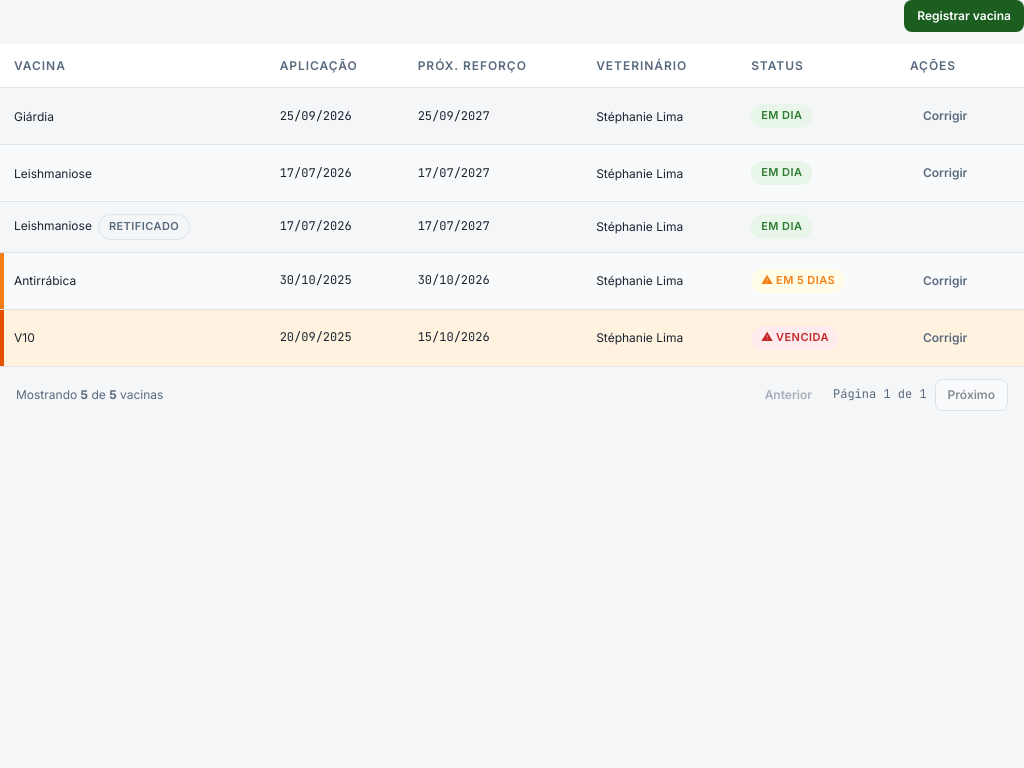
Test: ModalRegistrarVacina — catálogo de vacinas da API › falha ao carregar mostra o erro com "Tentar novamente" e bloqueia o envio até recuperar
Expected: the text "V10" is shown, [0, 310, 266, 366]
Click the button "Registrar vacina" at (964, 16), box [904, 0, 1023, 32]
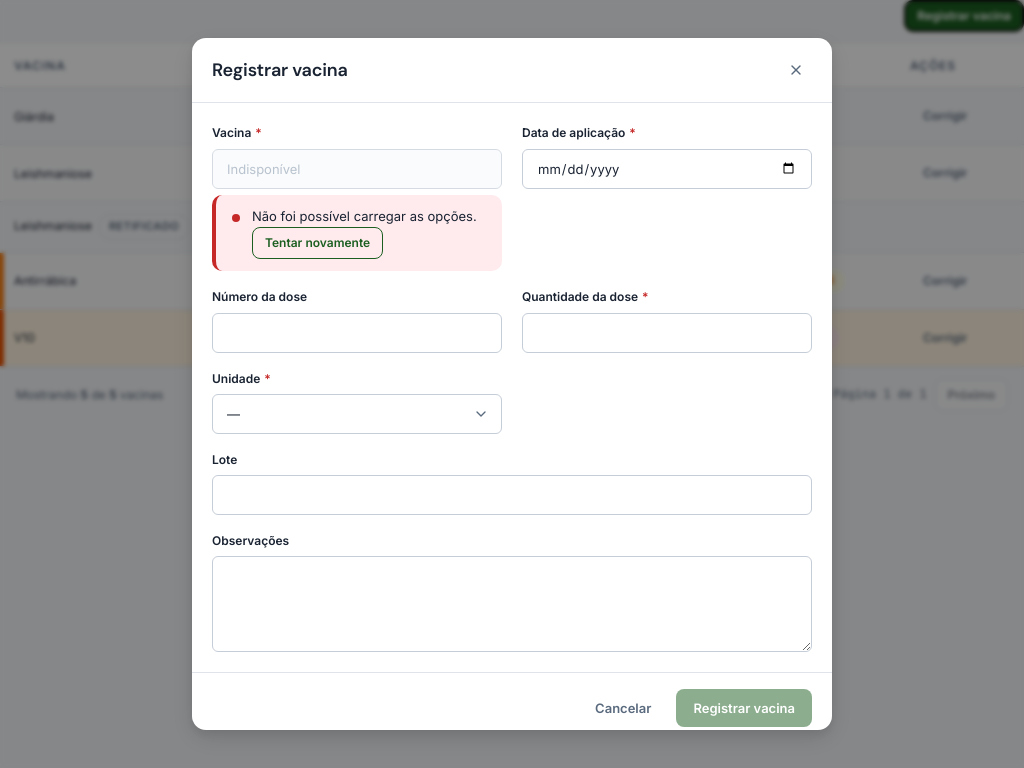
Expected: the text "Não foi possível carregar as opções." is shown, [252, 208, 477, 224]
Expected: the button "Registrar vacina" is disabled, [676, 689, 812, 727]
Click the button "Tentar novamente" at (318, 243), box [252, 227, 383, 259]
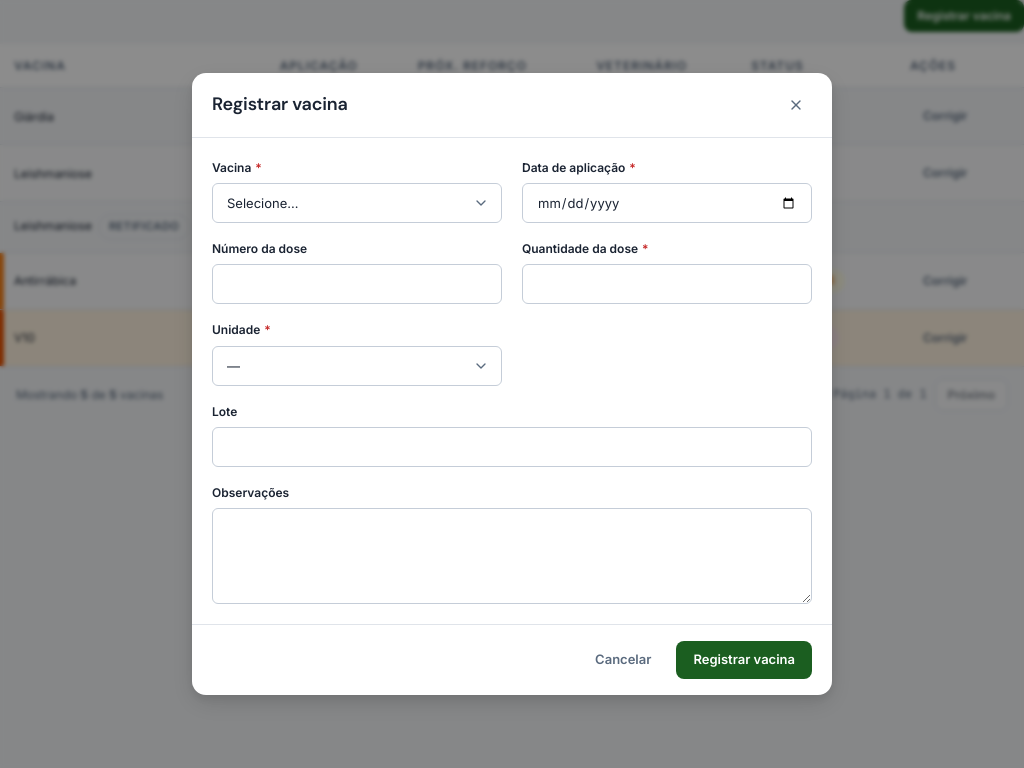
Expected: the text "Não foi possível carregar as opções." is gone
Expected: the button "Registrar vacina" is enabled, [676, 641, 812, 679]
